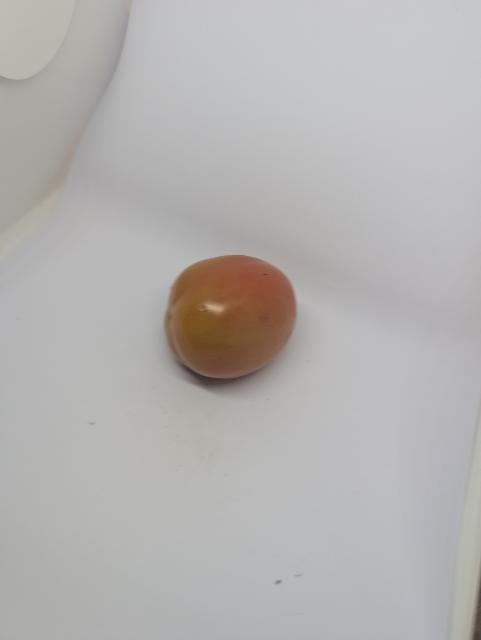turning: (159, 250, 304, 391)
